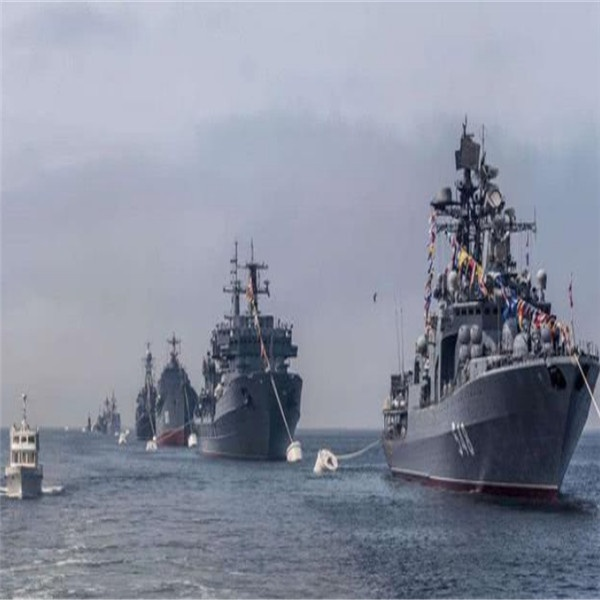warship: (387, 122, 600, 498), (185, 237, 316, 458), (154, 332, 202, 449), (7, 396, 52, 497), (133, 343, 164, 431)
